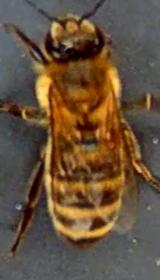varroa_mite: (84, 118, 135, 156)
